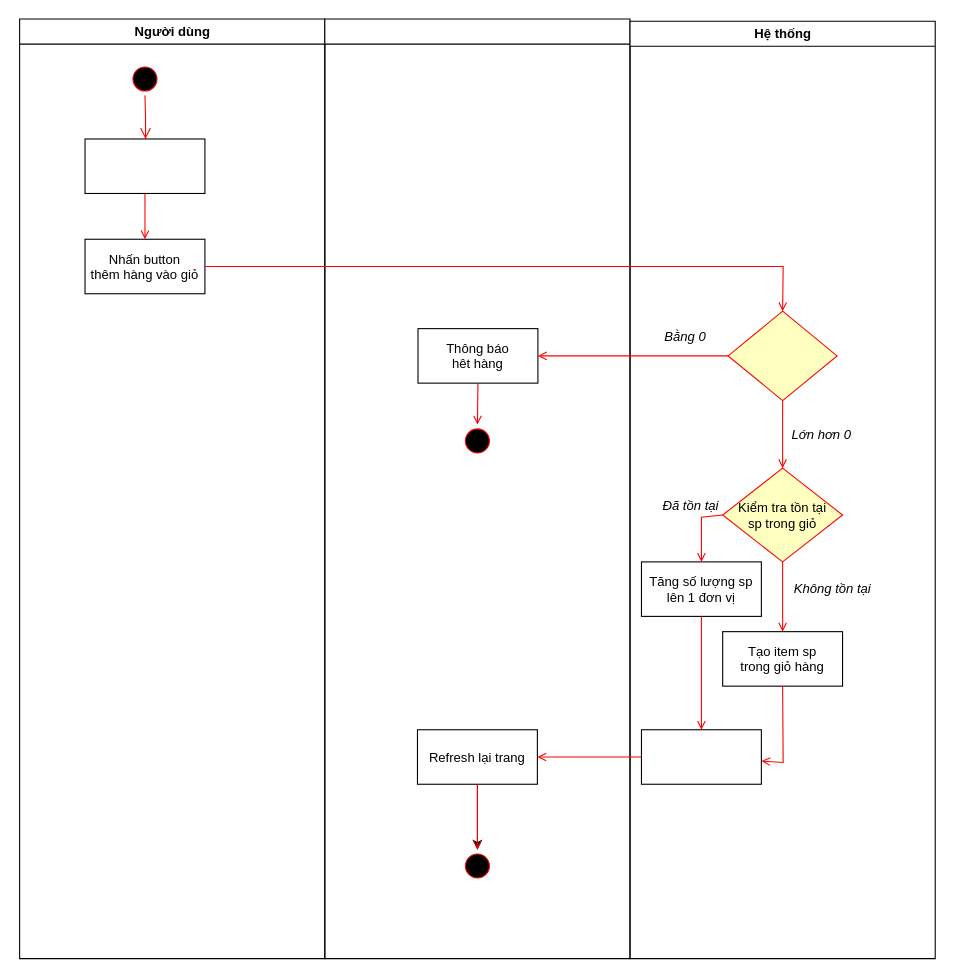
This 954x978 diagram has some shape labels left out. Each missing label, with the box of its shape:
Giao diện: (324, 18, 630, 959)
Giảm số lượng sp tồn 1 đơn vị: (640, 729, 761, 784)
Kiểm tra số lượng tồn: (727, 310, 837, 401)
Truy cập Fshop: (84, 138, 205, 193)
